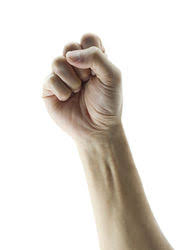fist: (37, 31, 128, 141)
